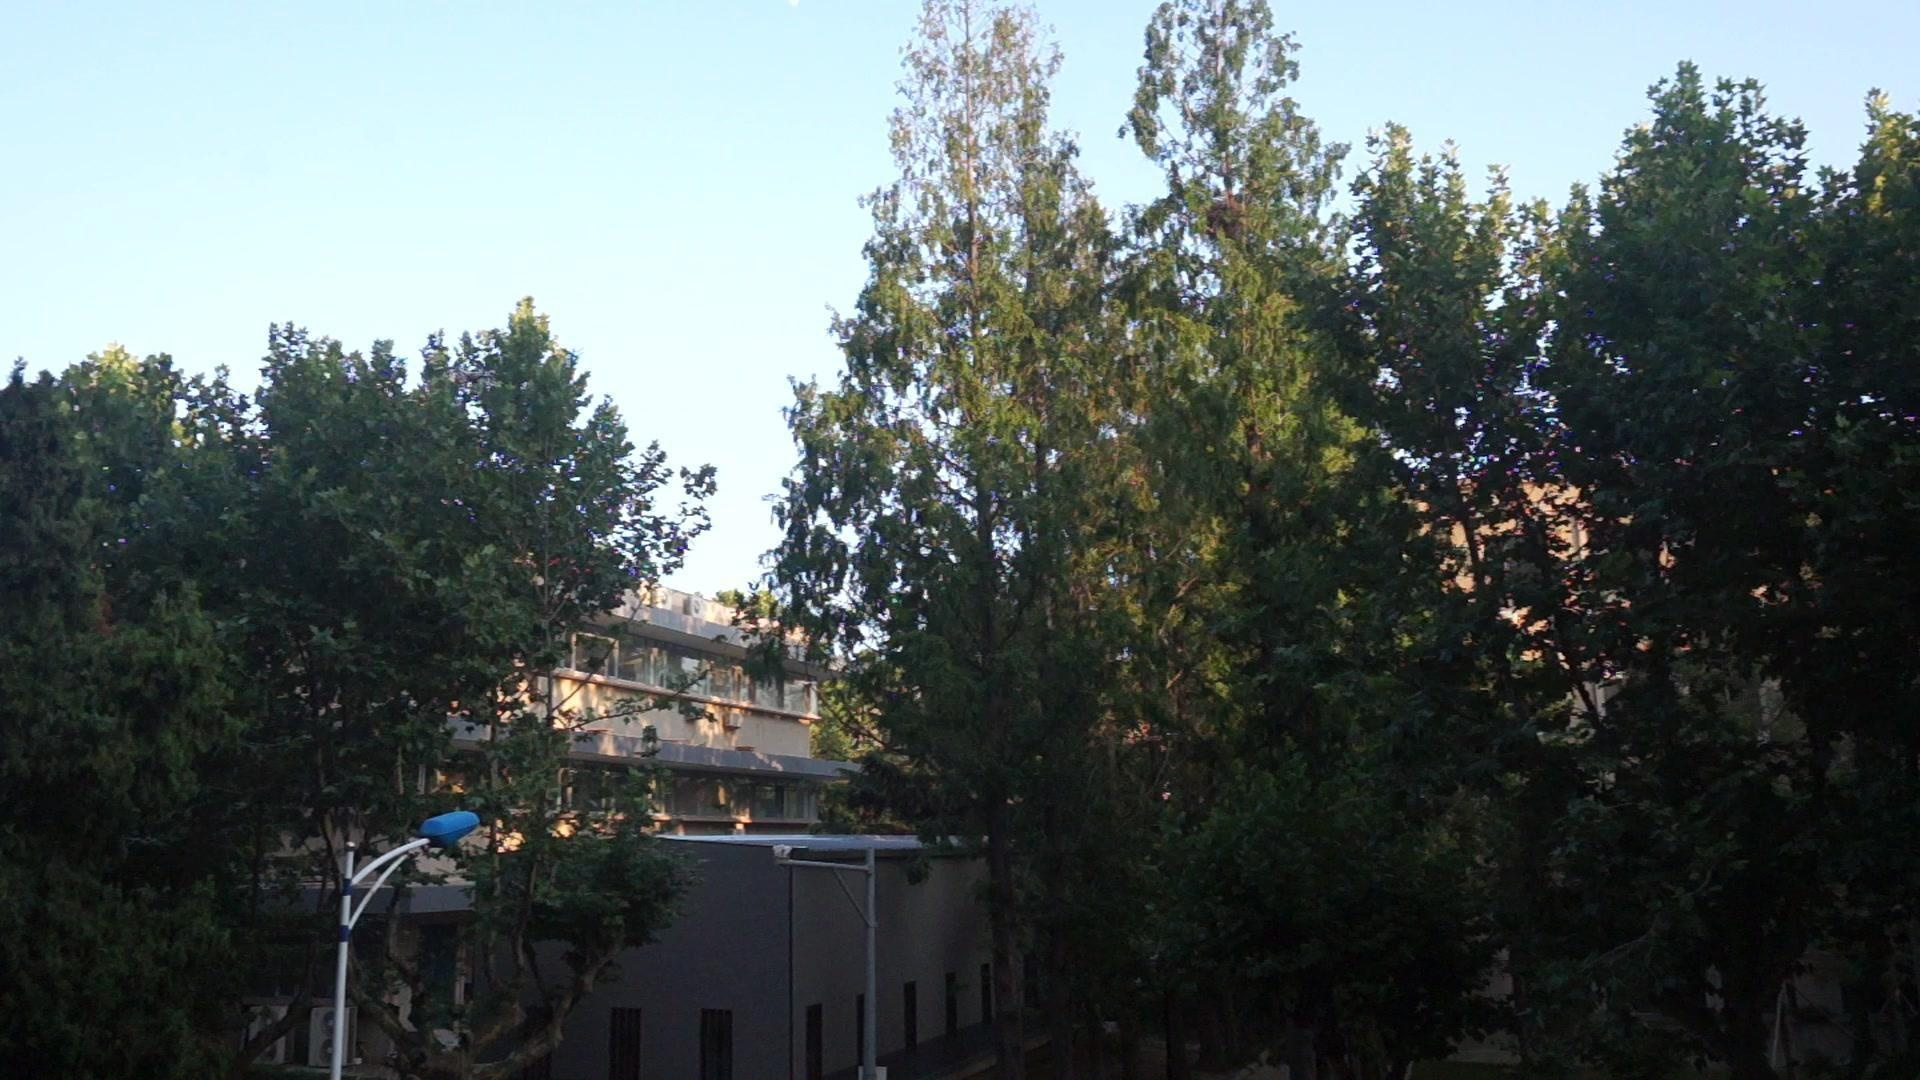UAV: (444, 365, 495, 386)
